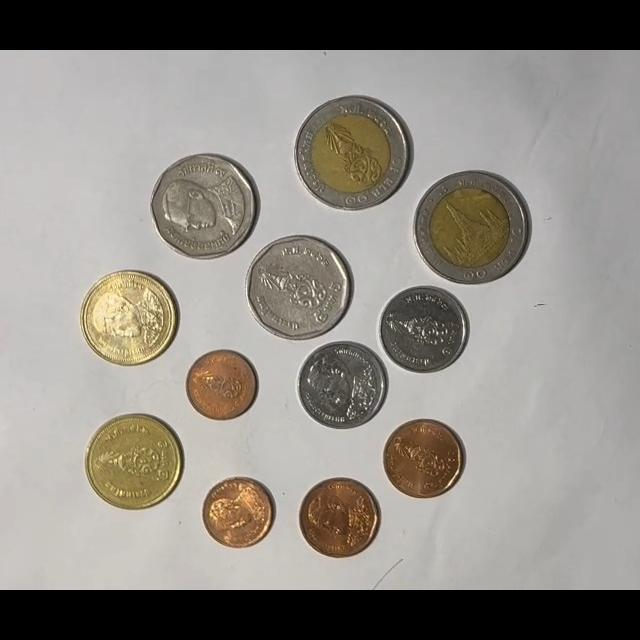1-baht: (296, 341, 388, 430), (378, 286, 468, 374)
10-baht: (293, 95, 412, 212), (413, 171, 530, 285)
2-baht: (85, 414, 184, 510), (80, 270, 177, 367)
25-satang: (202, 477, 276, 550), (185, 349, 258, 421)
5-baht: (246, 234, 353, 341), (150, 154, 258, 259)
50-satang: (298, 478, 381, 558), (382, 419, 465, 499)
